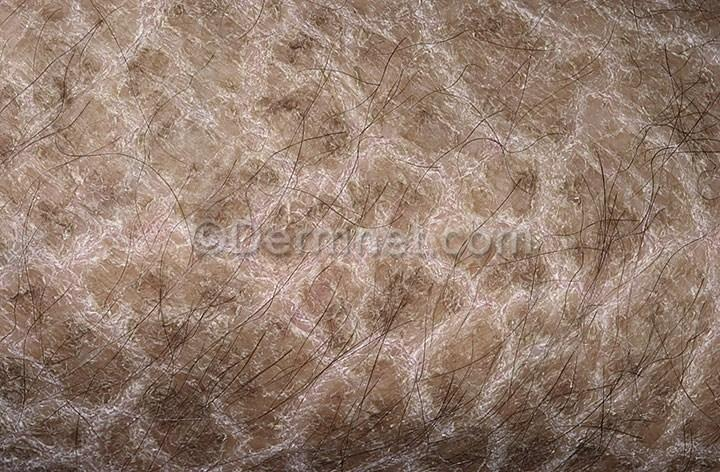liquenificacion 3: (1, 2, 720, 472)
xerosis 3: (0, 2, 718, 472)
